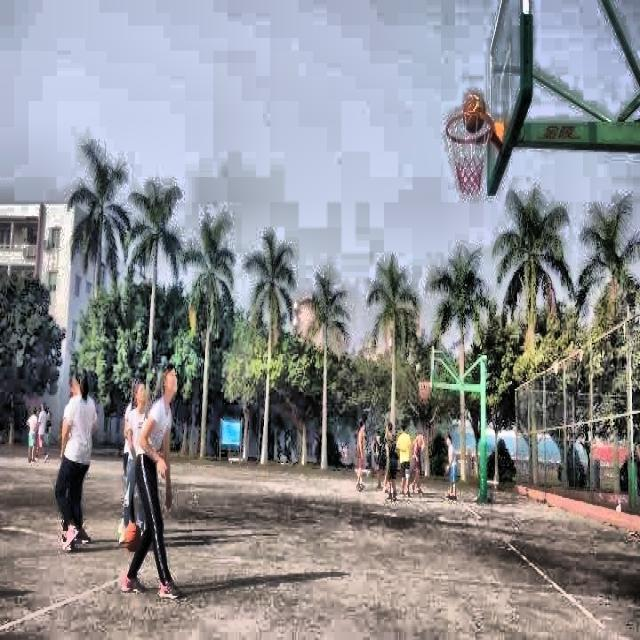rim: (447, 112, 492, 194)
